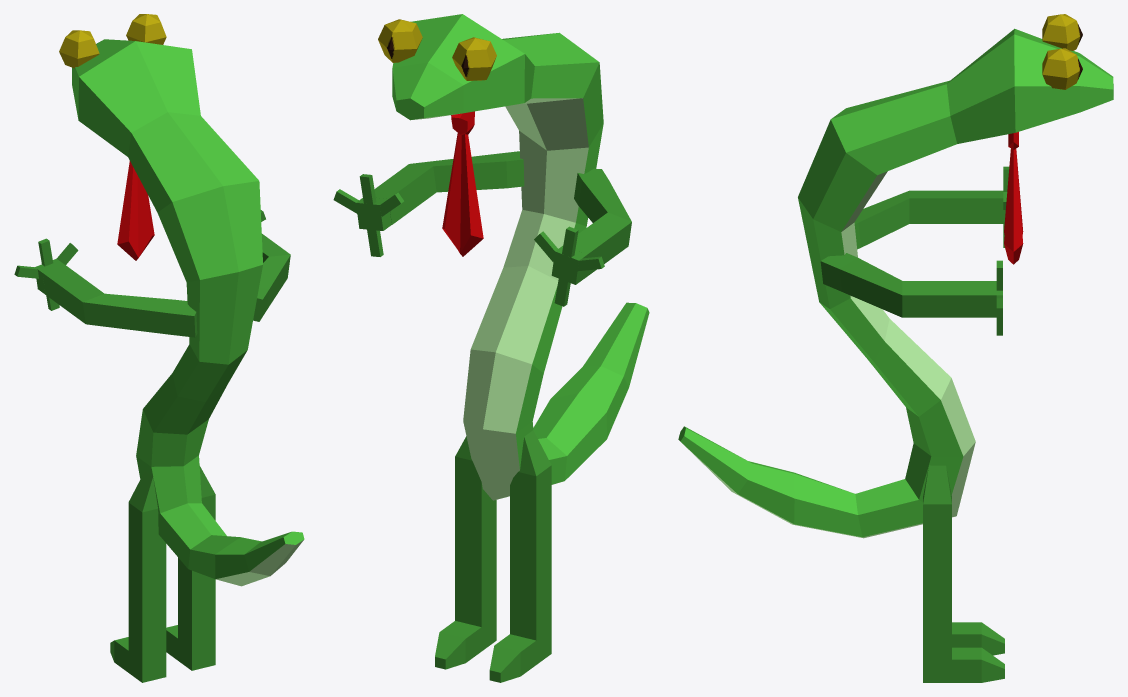
The model's file is Snake_Model_LowPoly_Green.fbx.
The picture shows the model from 3 angles, left to right: view 1: azimuth 30°, elevation 25°; view 2: azimuth 150°, elevation 25°; view 3: azimuth 270°, elevation 25°; orthographic projection. The views are drawn at different scales.
Visible parts, largest first — view 1: Body, Feet2, Arm2, Feet1, Tie, Eye, Arm1; view 2: Body, Feet2, Feet1, Arm1, Arm2, Tie, Eye, Hand1, Hand1.001; view 3: Body, Feet1, Arm1, Arm2, Eye, Tie, Feet2.
Boxes of the visible parts, x1=… form: Body: x1=72, y1=39, x2=304, y2=586; Feet2: x1=110, y1=471, x2=166, y2=682; Arm2: x1=42, y1=264, x2=197, y2=337; Feet1: x1=166, y1=466, x2=215, y2=670; Tie: x1=117, y1=161, x2=154, y2=260; Eye: x1=59, y1=14, x2=166, y2=68; Arm1: x1=253, y1=233, x2=290, y2=321; Body: x1=392, y1=14, x2=649, y2=500; Feet2: x1=489, y1=430, x2=551, y2=682; Feet1: x1=435, y1=436, x2=496, y2=669; Arm1: x1=374, y1=151, x2=524, y2=224; Arm2: x1=574, y1=168, x2=631, y2=278; Tie: x1=442, y1=111, x2=483, y2=256; Eye: x1=378, y1=19, x2=496, y2=80; Hand1: x1=356, y1=198, x2=391, y2=230; Hand1.001: x1=551, y1=245, x2=587, y2=284; Body: x1=678, y1=28, x2=1113, y2=538; Feet1: x1=923, y1=465, x2=1004, y2=682; Arm1: x1=820, y1=253, x2=986, y2=317; Arm2: x1=854, y1=190, x2=993, y2=249; Eye: x1=1042, y1=14, x2=1082, y2=89; Tie: x1=1004, y1=132, x2=1023, y2=264; Feet2: x1=952, y1=622, x2=1004, y2=655.
Size of the model in its own units: 1.63 by 3.83 by 2.39.
Materials: 5 (4 with a texture image).
